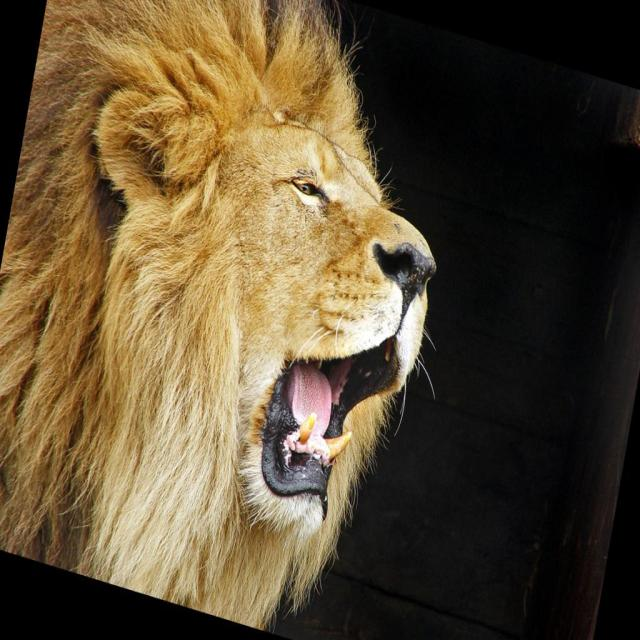Lion: (0, 0, 497, 639)
